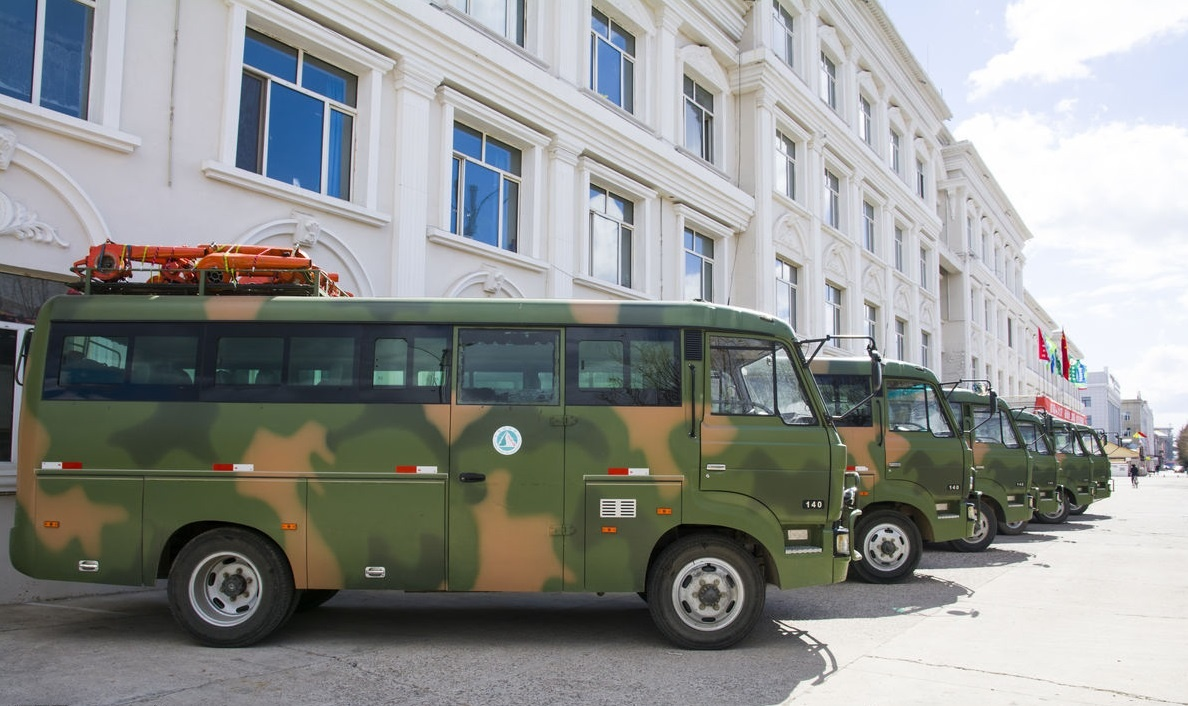truck: (23, 236, 850, 680)
